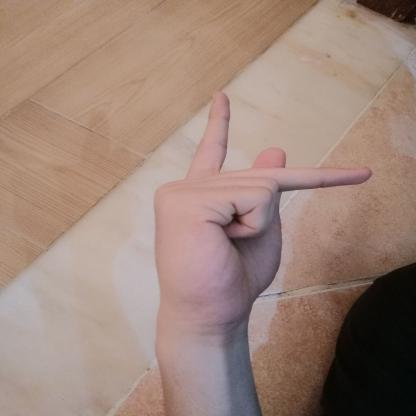DHAA: (130, 81, 392, 345)
